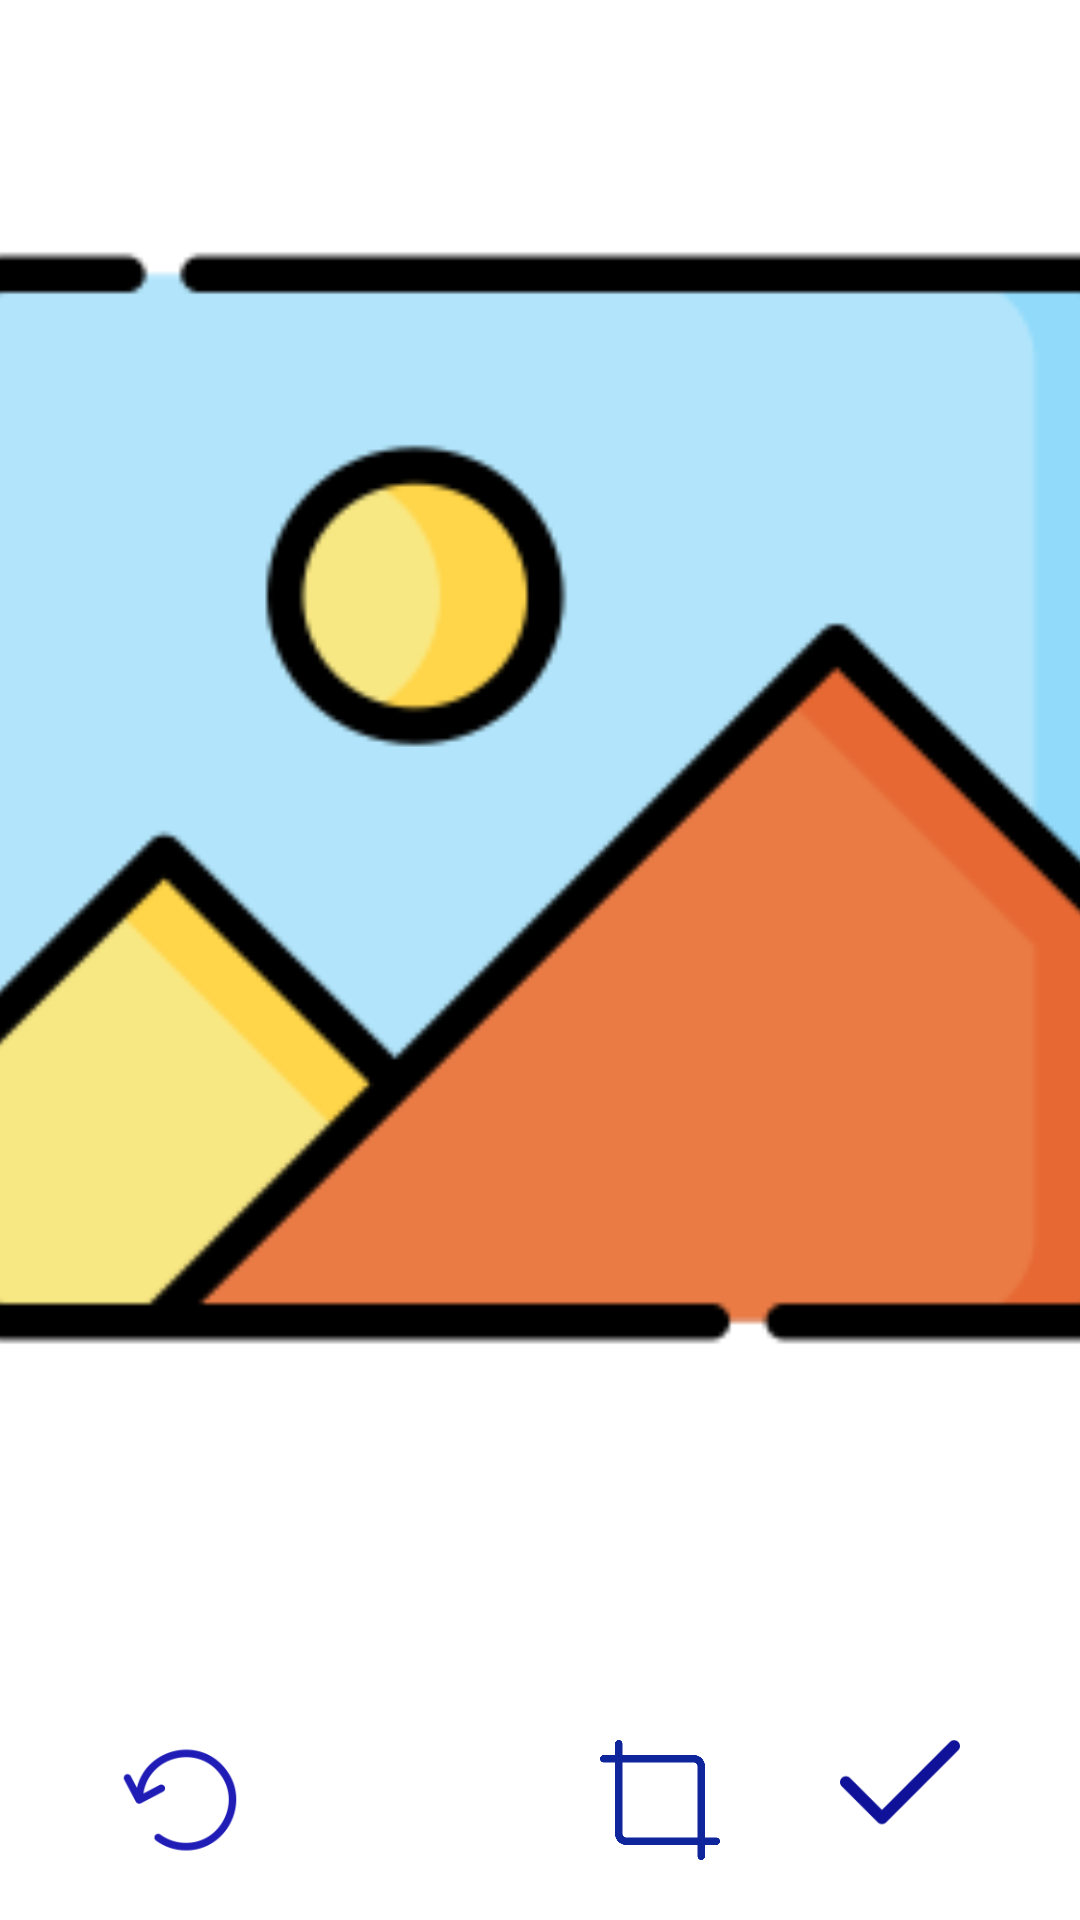

Where to tap for icons on this 1080x1920 app screen, as [x,y]:
check: [900,1782]
crop: [660,1800]
undo: [180,1800]
